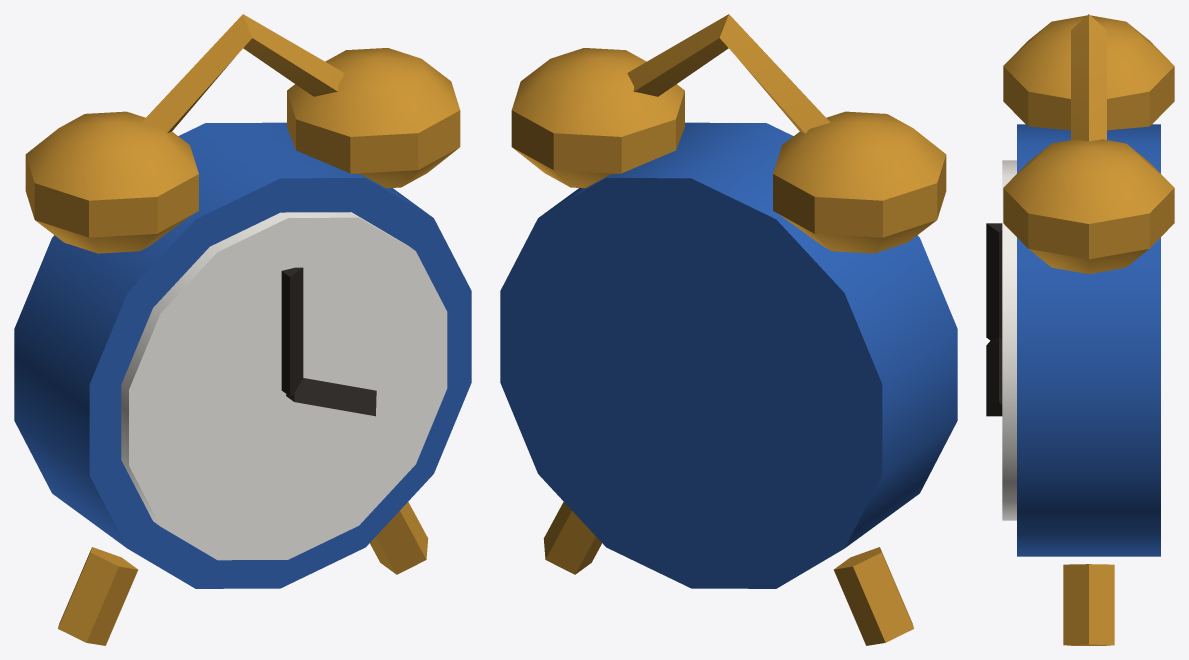
The model's file is Junk_Clock.fbx.
3 views of the same model, side by side, from view 1: azimuth 30°, elevation 25°; view 2: azimuth 150°, elevation 25°; view 3: azimuth 270°, elevation 25° (orthographic). The views are drawn at different scales.
Parts seen in each view (by area): view 1: Item; view 2: Item; view 3: Item.
Boxes of the visible parts, x1,y1,x2,y2 form: Item: (14, 14, 471, 645); Item: (500, 14, 957, 645); Item: (986, 14, 1174, 645).
Bounding box in the file's own units: 0.2551 × 0.3454 × 0.1045.
